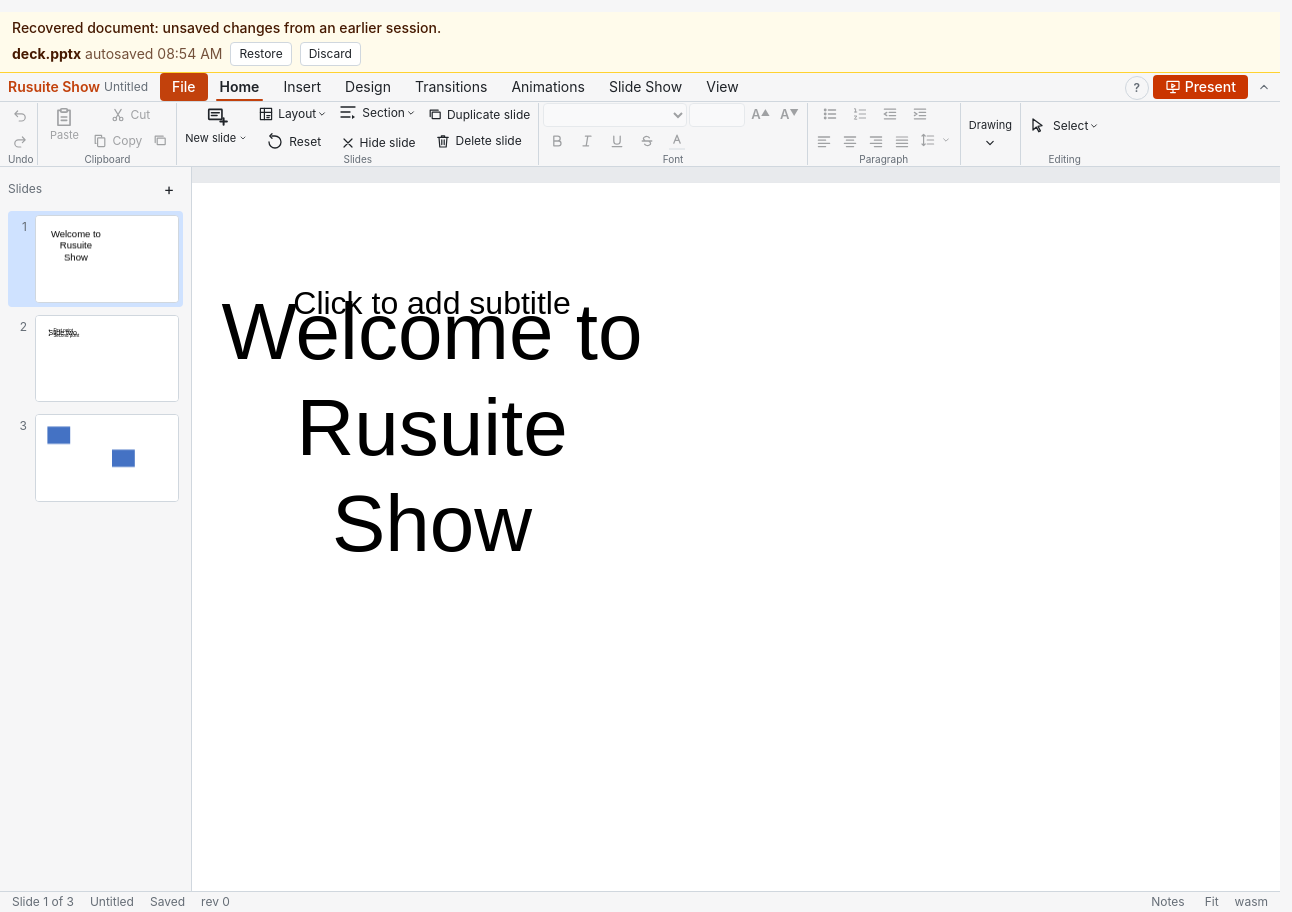
Test: Show app recovery (P5-3) › restores an autosaved presentation from the banner as modified
Check: the number of buttons with test id "thumbnail" is 3, box left=8, top=211, right=183, bottom=306; left=8, top=310, right=183, bottom=406; left=8, top=410, right=183, bottom=506
Check: the text "deck.pptx" is shown, box left=12, top=45, right=81, bottom=62
Step 1. Click the button with aria-label "Restore deck.pptx" → (261,54), box left=230, top=42, right=292, bottom=66
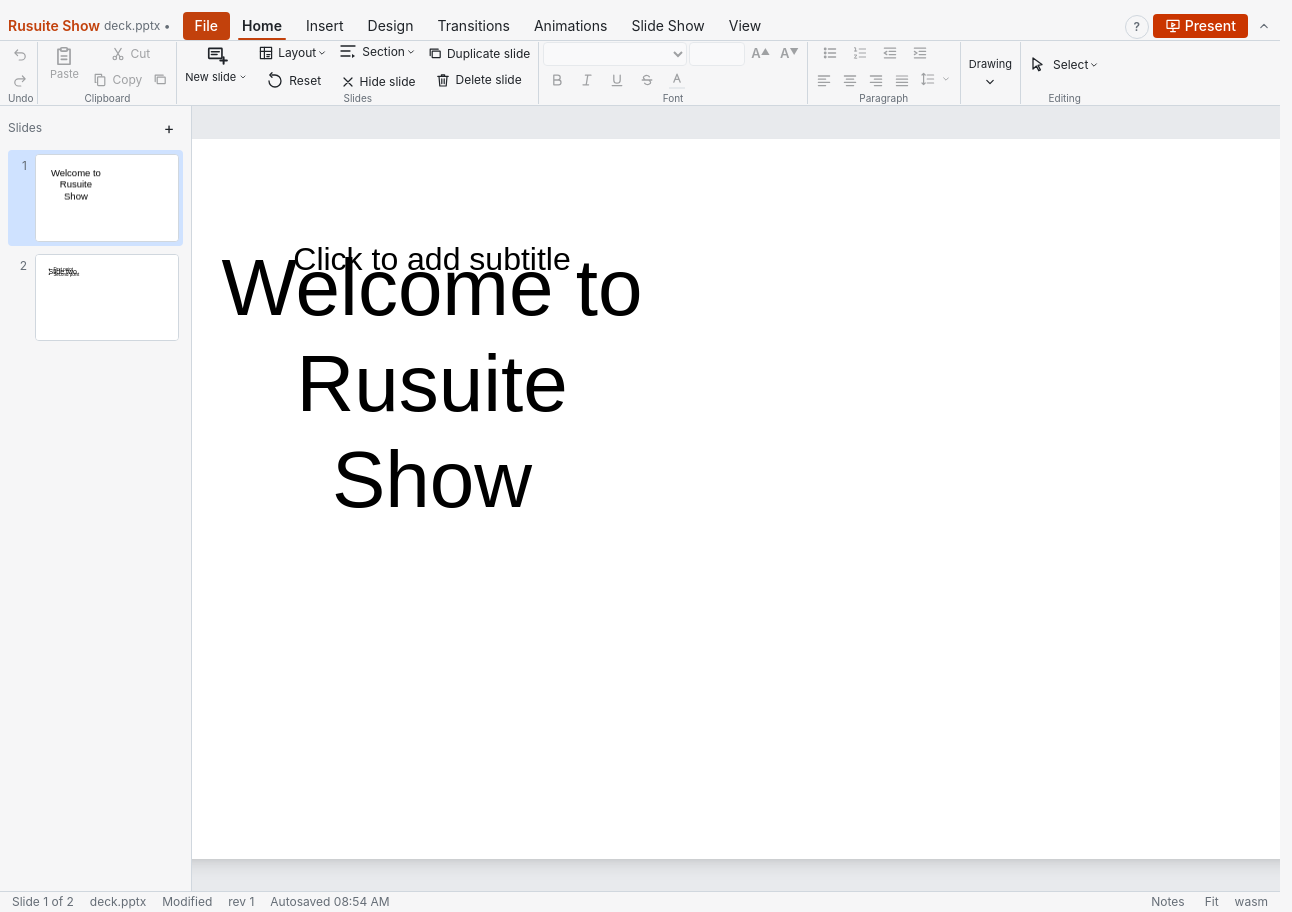
Check: the number of buttons with test id "thumbnail" is 2, box left=8, top=150, right=183, bottom=246; left=8, top=250, right=183, bottom=345
Check: the text with test id "doc-name" reads "deck.pptx", box left=90, top=894, right=146, bottom=909
Check: the text with test id "dirty" reads "Modified", box left=162, top=894, right=212, bottom=909
